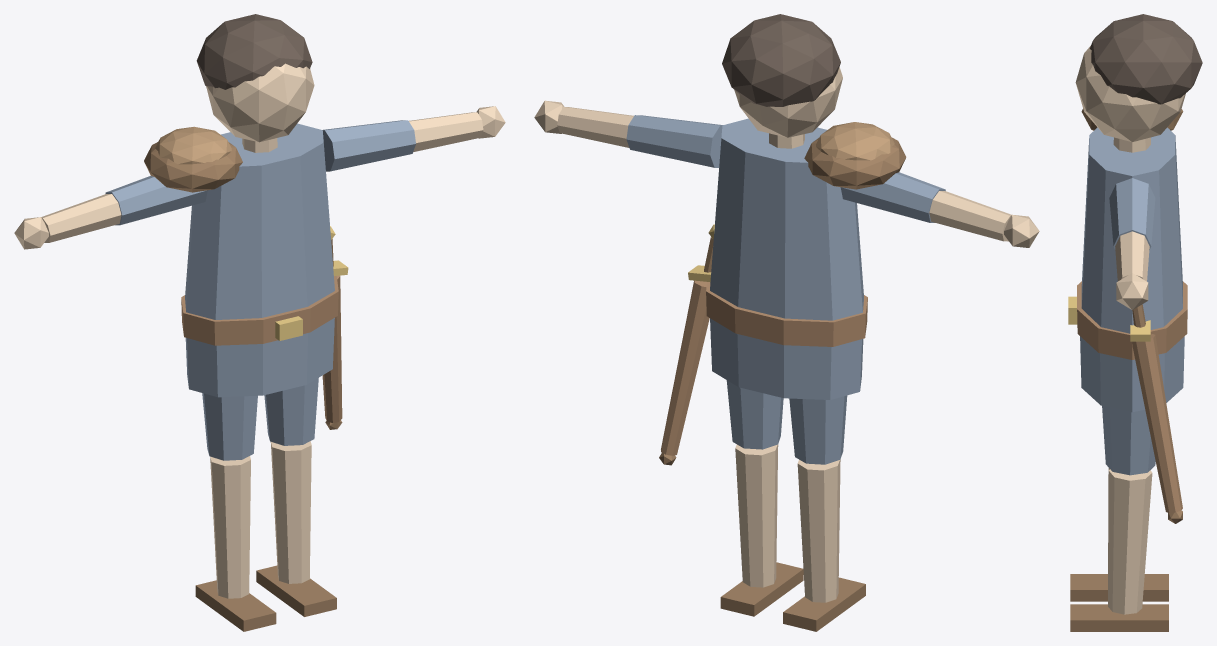
File: player.glb
The picture shows the model from 3 angles, left to right: view 1: azimuth 30°, elevation 25°; view 2: azimuth 150°, elevation 25°; view 3: azimuth 270°, elevation 25°; orthographic projection. The views are drawn at different scales.
Parts seen in each view (by area): view 1: chest, hips, hair, head_mesh, shin_-1, shin_1, belt, upperarm_1, thigh_-1, thigh_1, pauldron_low, upperarm_-1 (+7 smaller); view 2: chest, hair, hips, shin_1, shin_-1, belt, upperarm_1, scabbard, thigh_-1, thigh_1, head_mesh, pauldron_low (+7 smaller); view 3: chest, hair, shin_1, head_mesh, hips, scabbard, thigh_1, belt, sandal_1, upperarm_1, sandal_-1, forearm_1 (+6 smaller).
Part boxes in pixels (x1,y1,x2,y2): chest: (185, 123, 334, 319); hips: (185, 318, 334, 397); hair: (196, 14, 312, 89); head_mesh: (206, 63, 314, 142); shin_-1: (210, 456, 250, 598); shin_1: (270, 441, 311, 583); belt: (181, 276, 338, 345); upperarm_1: (322, 120, 415, 171); thigh_-1: (202, 393, 257, 460); thigh_1: (264, 378, 318, 445); pauldron_low: (144, 142, 242, 192); upperarm_-1: (105, 176, 207, 225); chest: (710, 118, 863, 320); hair: (722, 14, 840, 106); hips: (710, 318, 863, 399); shin_1: (735, 444, 778, 587); shin_-1: (797, 459, 840, 602); belt: (706, 282, 867, 346); upperarm_1: (626, 115, 722, 167); scabbard: (661, 280, 709, 455); thigh_-1: (789, 395, 847, 464); thigh_1: (726, 380, 783, 449); head_mesh: (734, 67, 842, 137); pauldron_low: (804, 137, 906, 189); chest: (1081, 127, 1182, 333); hair: (1089, 14, 1202, 104); shin_1: (1108, 469, 1152, 614); head_mesh: (1075, 45, 1185, 142); hips: (1080, 336, 1184, 412); scabbard: (1132, 334, 1182, 512); thigh_1: (1102, 406, 1155, 475); belt: (1077, 281, 1187, 359); sandal_1: (1070, 604, 1168, 631); upperarm_1: (1109, 178, 1155, 249); sandal_-1: (1070, 574, 1168, 601); forearm_1: (1115, 231, 1149, 281).
Size of the model in its own units: 1.54 by 1.75 by 0.3631.
